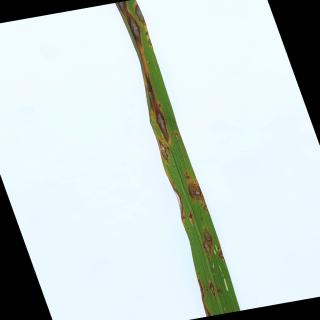Blast: (152, 100, 171, 142), (126, 13, 145, 49), (186, 173, 207, 204), (171, 186, 187, 221), (202, 227, 214, 262), (155, 140, 171, 164), (134, 3, 148, 26), (148, 88, 156, 111), (116, 0, 128, 15), (210, 281, 218, 299), (217, 250, 226, 262), (188, 212, 195, 223), (147, 38, 153, 48), (202, 204, 208, 212)
